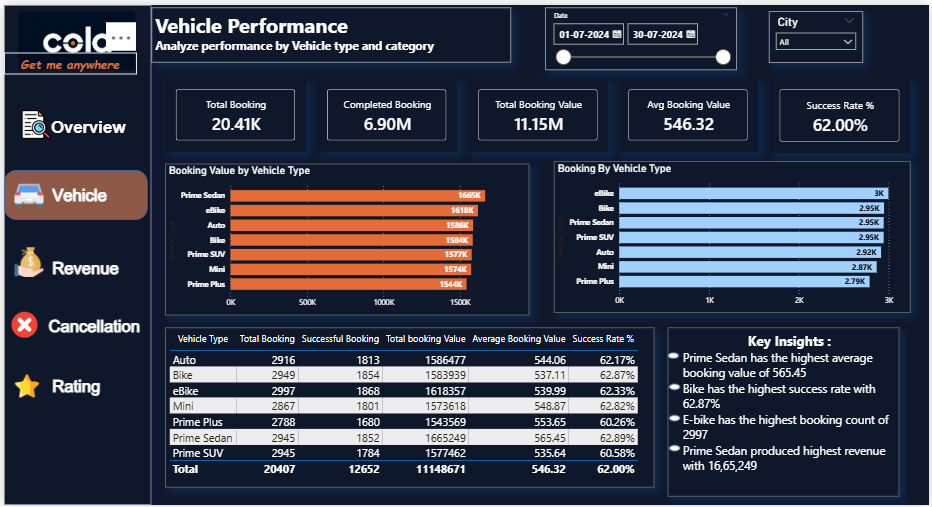

This screenshot's page, from the dashboard's own definition file:
{"tool":"powerbi","page":{"name":"Vehicle Performance","canvas":[1480,800],"ordinal":1},"visuals":[{"type":"image","box":[0,0,211.4,75.7],"z":0},{"type":"shape","box":[0,0,235.7,800],"z":1000},{"type":"image","box":[10,10,211.7,93.3],"z":2000},{"type":"textbox","box":[0,75,211.7,36.7],"z":3000},{"type":"shape","box":[0,264.3,230,80],"z":4000},{"type":"textbox","box":[58.3,176.7,153.3,53.3],"z":5000},{"type":"image","box":[28.3,168.3,46.7,46.7],"z":6000},{"type":"textbox","box":[71.7,280,138.3,55],"z":7000},{"type":"image","box":[16.7,265,48.3,78.3],"z":8000},{"type":"textbox","box":[71.7,395,138.3,55],"z":9000},{"type":"image","box":[15,371.7,48.3,78.3],"z":10000},{"type":"textbox","box":[65,490,163.3,51.7],"z":11000},{"type":"image","box":[11.7,478.3,41.7,66.7],"z":12000},{"type":"textbox","box":[71.7,585,160,51.7],"z":13000},{"type":"image","box":[16.7,576.7,41.7,66.7],"z":14000},{"type":"slicer","fields":{"Values":["July.Date"]},"box":[866.7,3.3,306.7,100],"z":15000},{"type":"slicer","fields":{"Values":["July.Pickup_Location"]},"box":[1224,10,150,82],"z":16000},{"type":"textbox","box":[235,3.3,575,88.3],"z":17000},{"type":"cardVisual","fields":{"Data":["CountNonNull(July.Booking_ID)"]},"box":[258.3,118.3,225,116.7],"z":18000},{"type":"cardVisual","fields":{"Data":["Sum(July.Booking_Value)"]},"box":[499.8,118.3,225,116.7],"z":19000},{"type":"cardVisual","fields":{"Data":["Sum(July.Booking_Value)"]},"box":[741.2,118.3,225,116.7],"z":20000},{"type":"cardVisual","fields":{"Data":["Avg(July.Booking_Value)"]},"box":[982.6,118.3,225,116.7],"z":21000},{"type":"cardVisual","fields":{"Data":["July.Sucess rate %"]},"box":[1224,118,226,118],"z":22000},{"type":"barChart","title":"Booking Value by Vehicle Type","fields":{"Y":["Sum(July.Booking_Value)"],"Category":["July.Vehicle_Type"]},"box":[258,254,582,242],"z":23000},{"type":"barChart","title":"Booking By Vehicle Type","fields":{"Category":["July.Vehicle_Type"],"Y":["CountNonNull(July.Booking_ID)"]},"box":[880,250,570,242],"z":24000},{"type":"textbox","box":[1062,516,370,270],"z":25000},{"type":"tableEx","fields":{"Values":["July.Vehicle_Type","July.Booking_ID","July.Successful Booking","Sum(July.Booking_Value)","Avg(July.Booking_Value)","July.Success Rate %"]},"box":[258,516,782,256],"z":26000},{"type":"shape","box":[1062,556,18,10],"z":27000},{"type":"shape","box":[1064,606,18,10],"z":28000},{"type":"shape","box":[1064,656,18,10],"z":29000},{"type":"shape","box":[1064,704,18,10],"z":30000}]}

Visuals, with their boxes on the page's 1480x800 design canvas (x1, y1, x2, y2). These are canvas units, not pixel positions in the 932x507 screenshot, which may show the page scaled, cropped or inside an application window:
image: [0, 0, 211, 76]
shape: [0, 0, 236, 800]
image: [10, 10, 222, 103]
textbox: [0, 75, 212, 112]
shape: [0, 264, 230, 344]
textbox: [58, 177, 212, 230]
image: [28, 168, 75, 215]
textbox: [72, 280, 210, 335]
image: [17, 265, 65, 343]
textbox: [72, 395, 210, 450]
image: [15, 372, 63, 450]
textbox: [65, 490, 228, 542]
image: [12, 478, 53, 545]
textbox: [72, 585, 232, 637]
image: [17, 577, 58, 643]
slicer - July.Date: [867, 3, 1173, 103]
slicer - July.Pickup_Location: [1224, 10, 1374, 92]
textbox: [235, 3, 810, 92]
cardVisual - CountNonNull(July.Booking_ID): [258, 118, 483, 235]
cardVisual - Sum(July.Booking_Value): [500, 118, 725, 235]
cardVisual - Sum(July.Booking_Value): [741, 118, 966, 235]
cardVisual - Avg(July.Booking_Value): [983, 118, 1208, 235]
cardVisual - July.Sucess rate %: [1224, 118, 1450, 236]
"Booking Value by Vehicle Type" barChart: [258, 254, 840, 496]
"Booking By Vehicle Type" barChart: [880, 250, 1450, 492]
textbox: [1062, 516, 1432, 786]
tableEx - July.Vehicle_Type x July.Booking_ID: [258, 516, 1040, 772]
shape: [1062, 556, 1080, 566]
shape: [1064, 606, 1082, 616]
shape: [1064, 656, 1082, 666]
shape: [1064, 704, 1082, 714]
